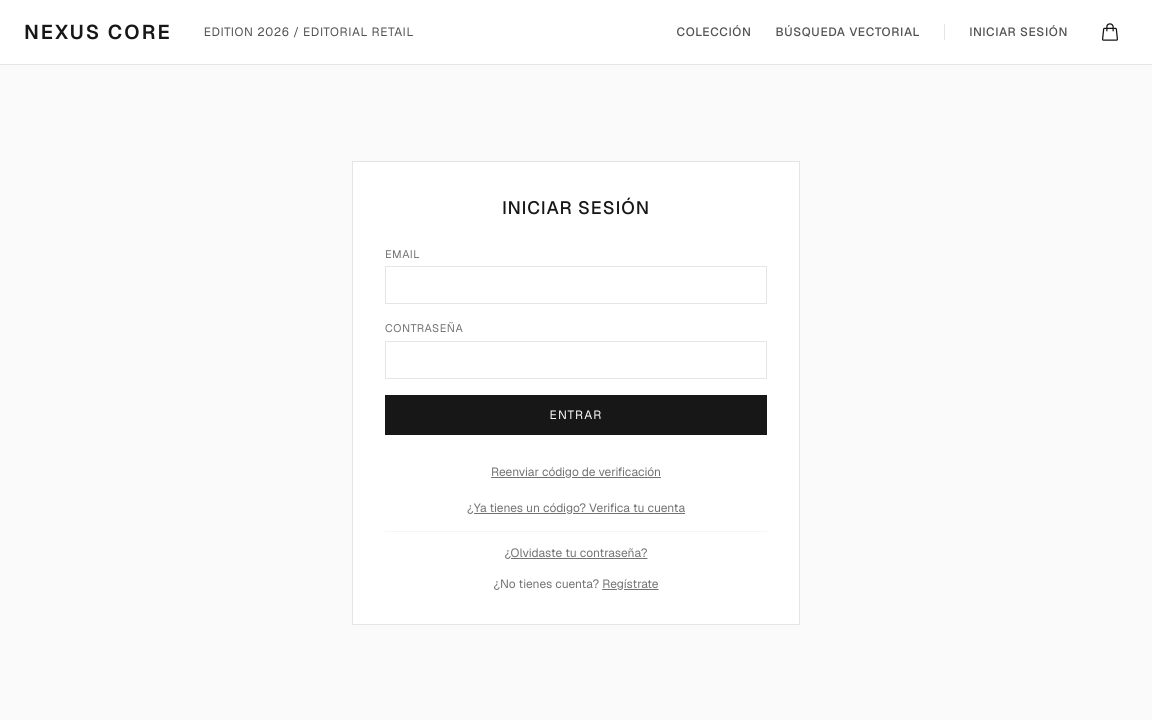
Test: Puntos de entrada del código de verificación › /login — accesos directos › no debe mostrar el botón de verificar ante un error distinto
In the field labelled "Email": (576, 285) [385,266,767,304], type "ana@example.com"
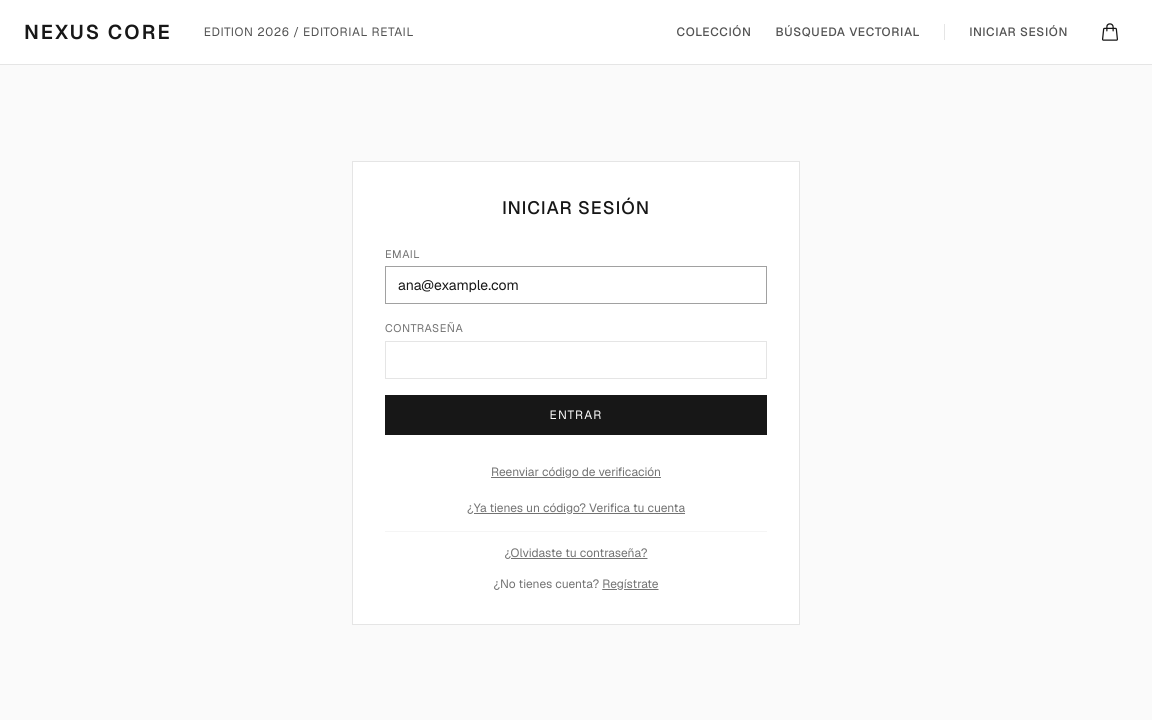
In the password field labelled "Contraseña": (576, 360) [385,340,767,378], type "password123"
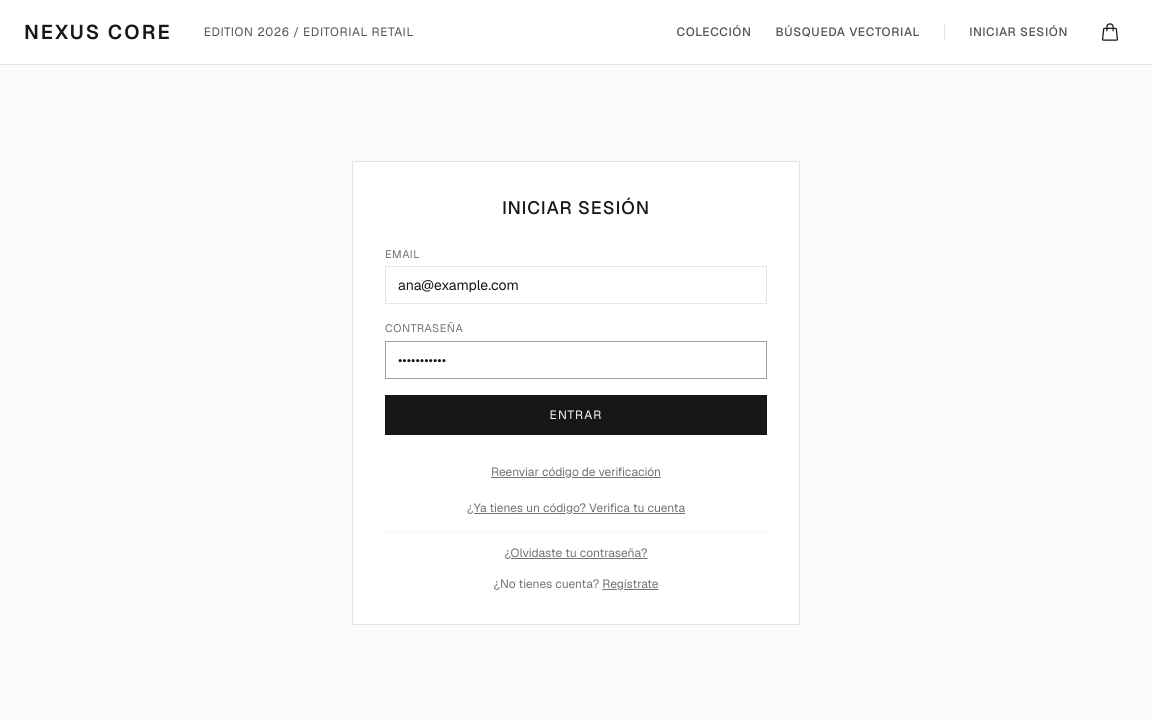
Click the button "Entrar": click(576, 414) [385,394,767,434]
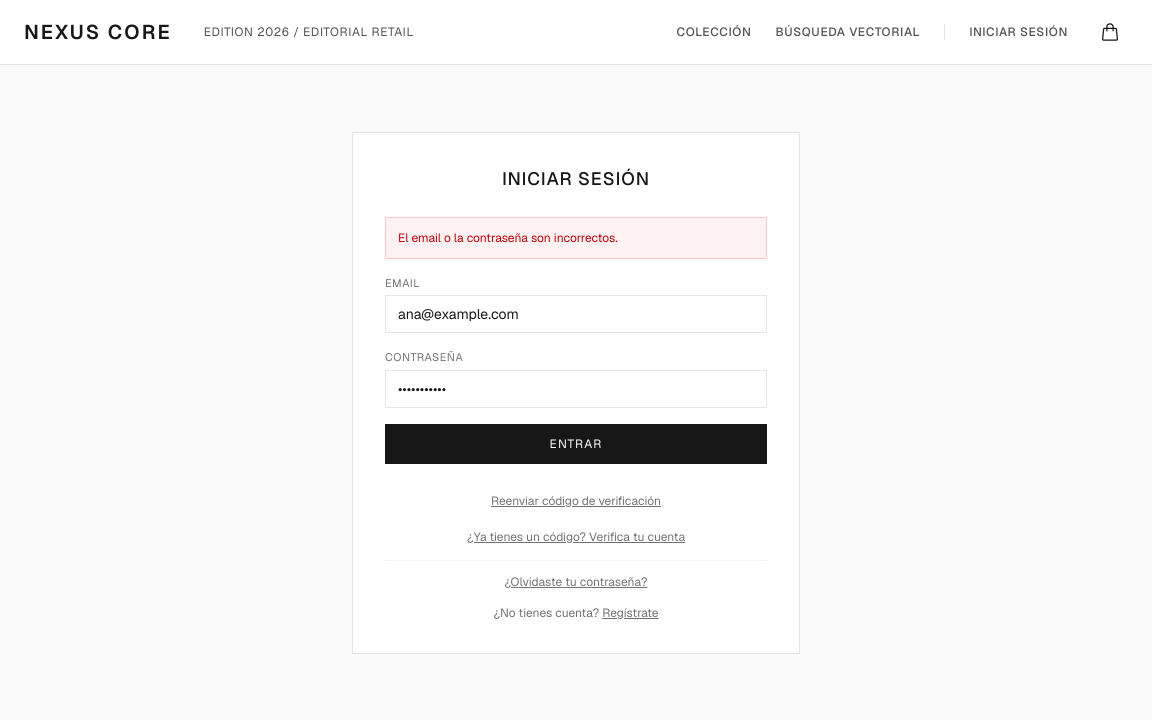
Expected: the text "El email o la contraseña son incorrectos." is shown, [385,216,767,258]
